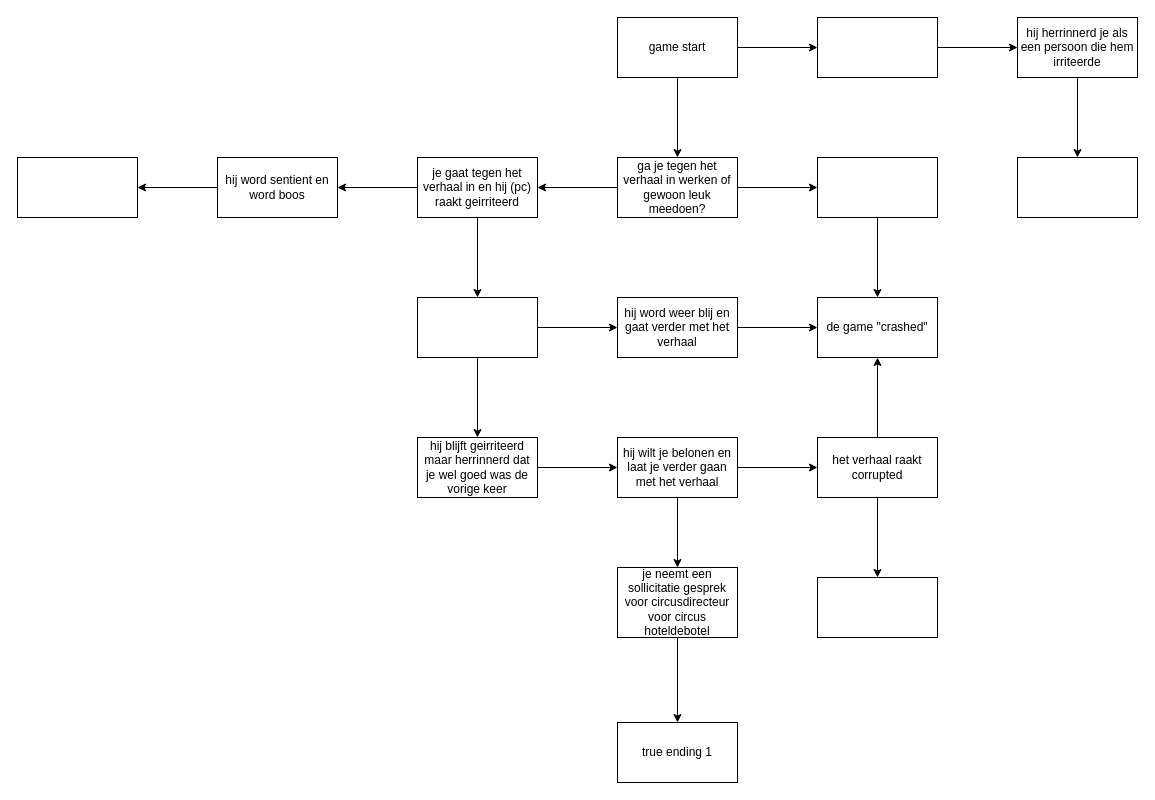
Image size: 1155x800. Some labels were removed from this diagram. The shapes that lost their labels are listed below. From the top down, each one's centre as x and y in pixels, then its label:
At pixel 877 47: "het herrinnerd dat je al hebt gespeeld".
At pixel 77 187: "hij sluit het spel af zodat e je niet meer hoeft te zien".
At pixel 877 187: "je speelt met het verhaal mee".
At pixel 1077 187: "idk maar hier komt een true ending".
At pixel 477 327: "je gaat je nu opeens wel gedragen".
At pixel 877 607: "de pc persoon word corrupted".
